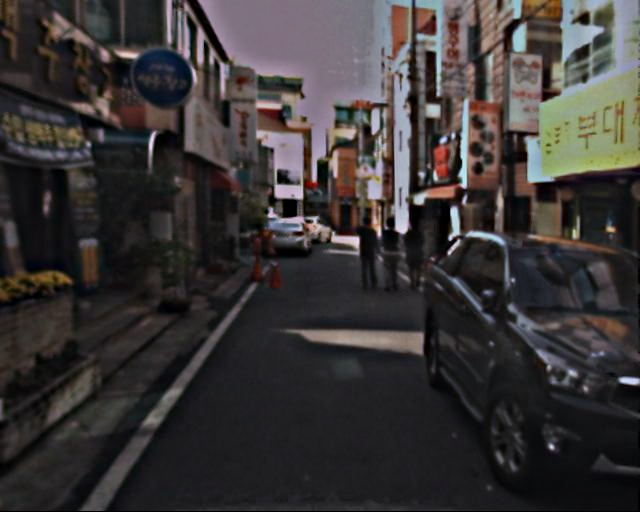person: (373, 215, 405, 293), (350, 216, 381, 292), (396, 217, 427, 293)
